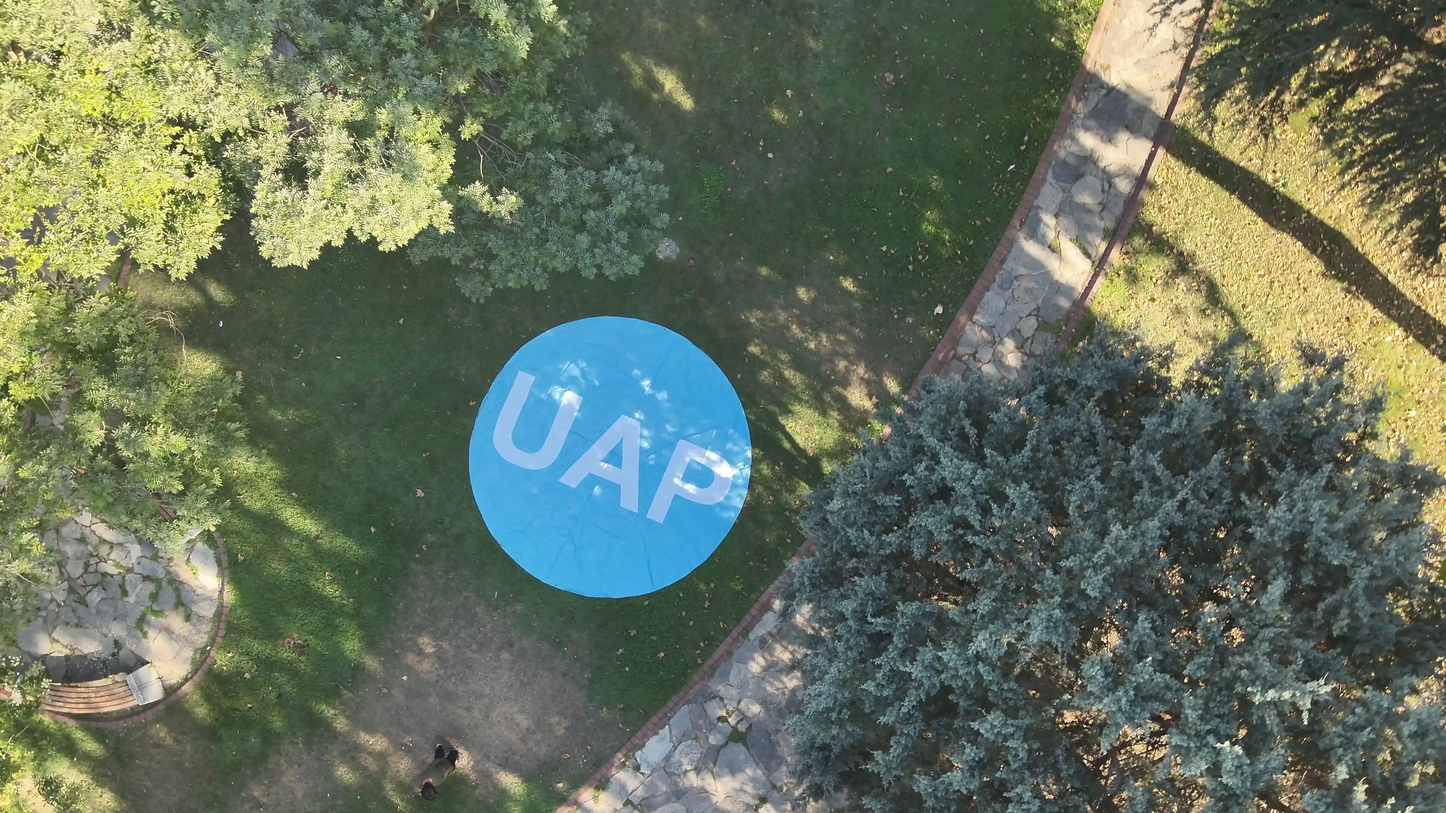UAP: (467, 314, 756, 600)
